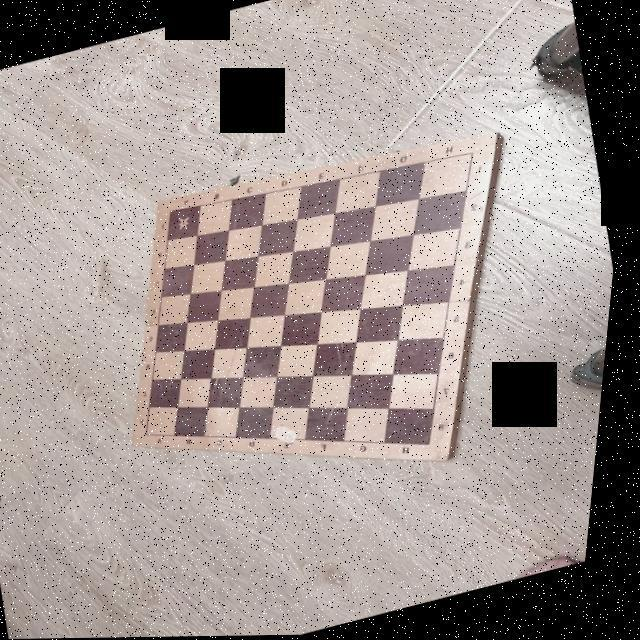chess-table-corners: (431, 438, 444, 451), (468, 148, 482, 159), (149, 429, 161, 439), (170, 206, 180, 216)
